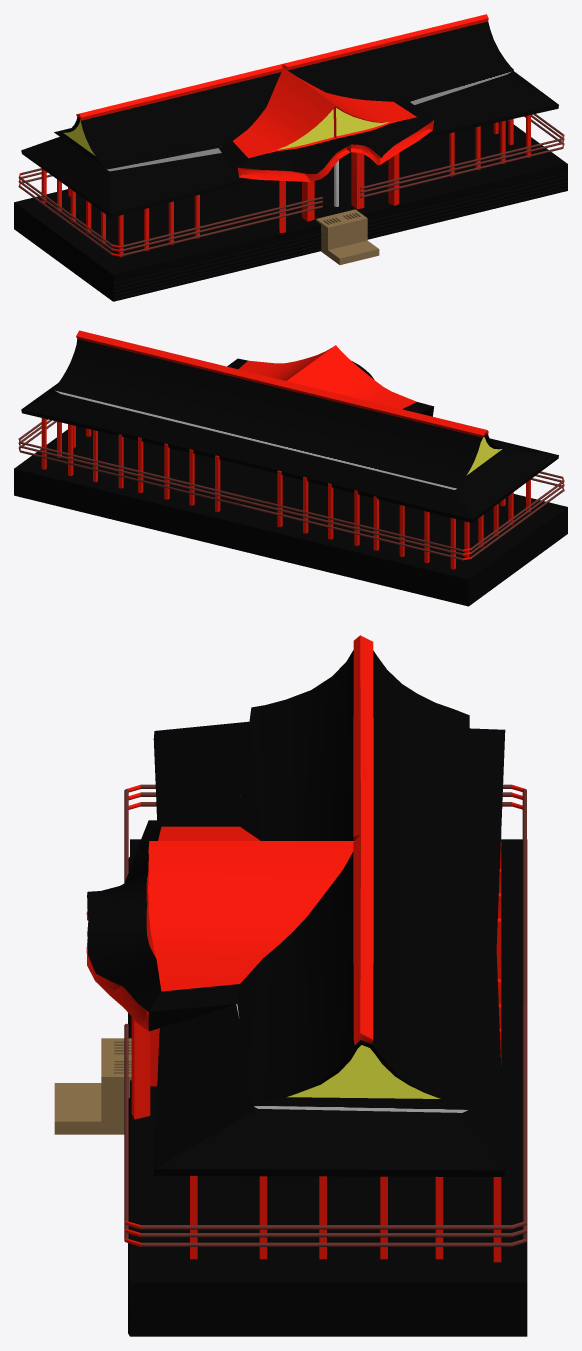
The model's file is hukuma_meta.fbx.
3 renders of one model, top to bottom at view 1: azimuth 30°, elevation 25°; view 2: azimuth 150°, elevation 25°; view 3: azimuth 270°, elevation 25°, orthographic. The views are drawn at different scales.
Parts seen in each view (by area): view 1: 平面; view 2: 平面; view 3: 平面.
Boxes of the visible parts, <box> form: 平面: <box>14,14,567,301</box>; 平面: <box>14,330,567,606</box>; 平面: <box>54,635,527,1336</box>.
Bounding box in the file's own units: 1781 × 527 × 802.
